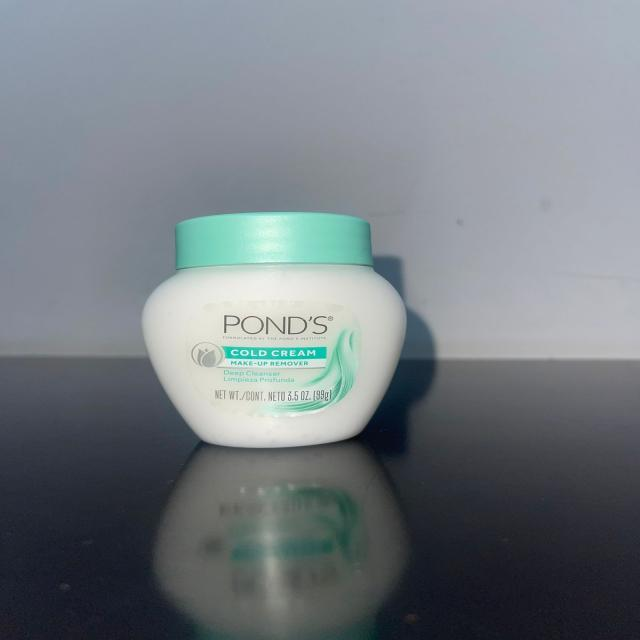lotion: (123, 185, 429, 467)
